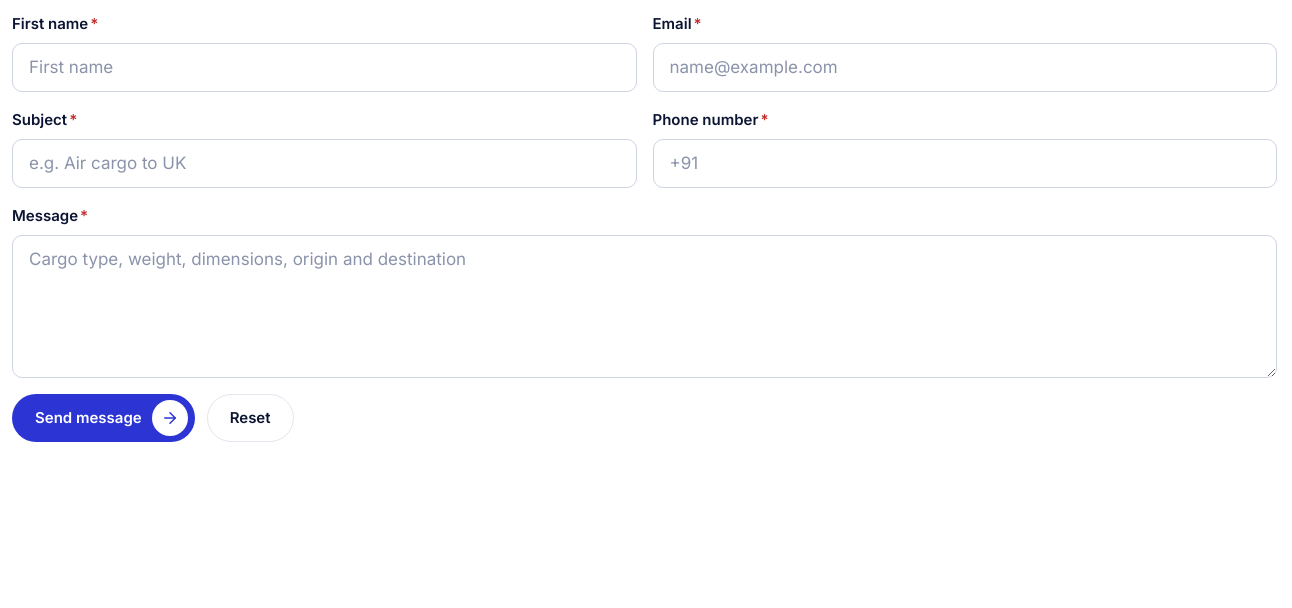
Test: <ContactForm> › shows accessible errors and does not submit when fields are empty
The width and height of the screenshot is (1292, 608).
Step 1. Click the button "Send message" → (103, 418), box left=12, top=394, right=195, bottom=442
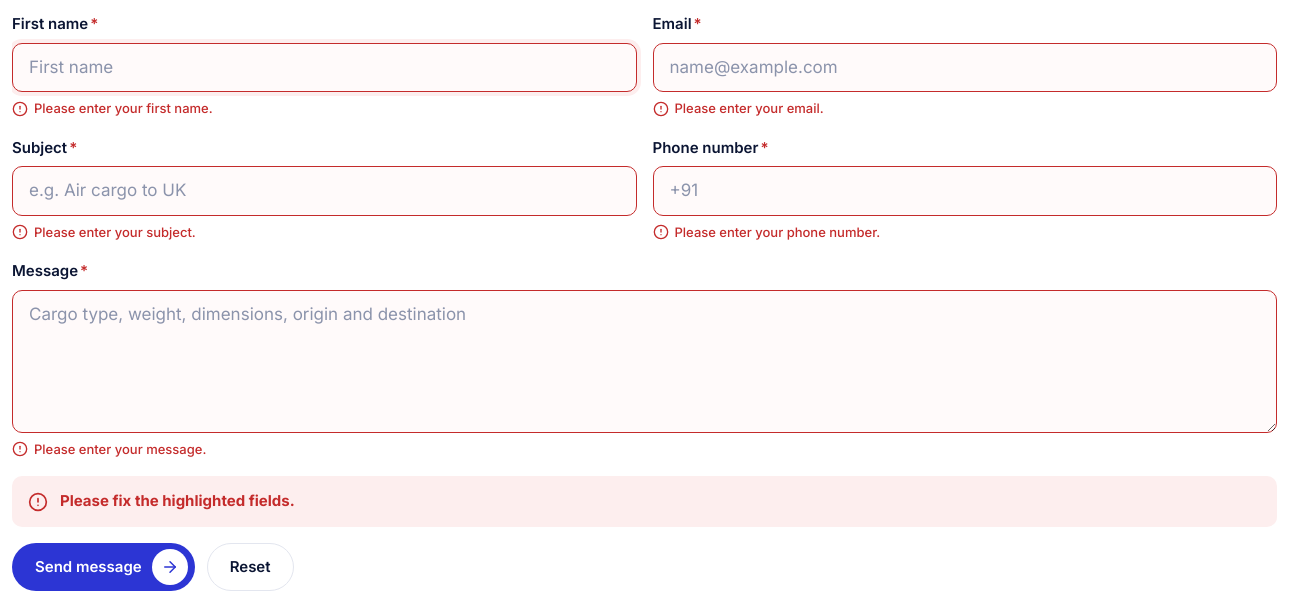
expect the text "Please enter your first name." is shown: met, box left=12, top=100, right=213, bottom=117
